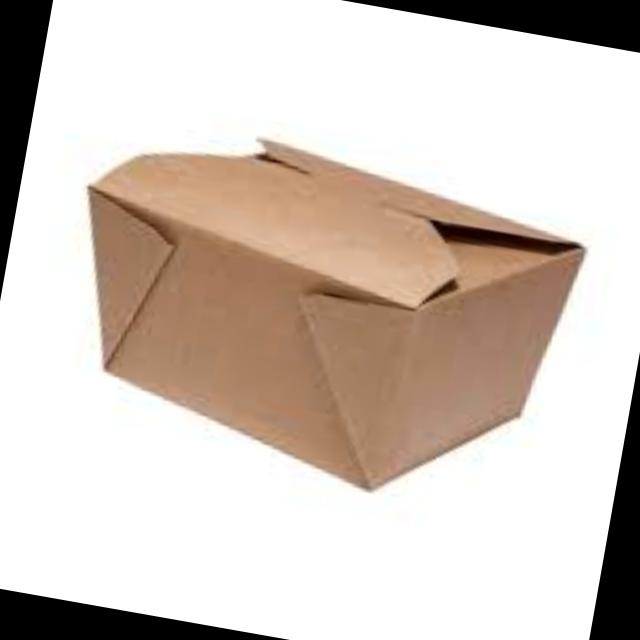cardboard paper: (94, 136, 587, 481)
